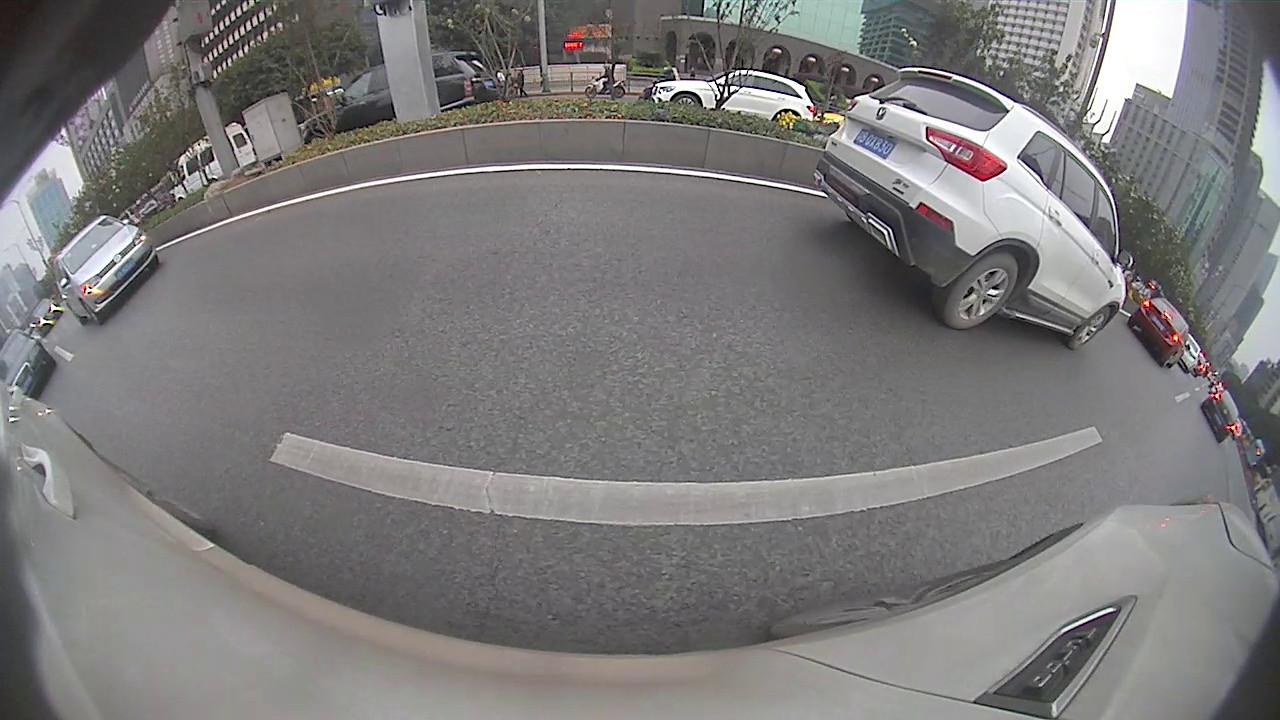bus: (645, 140, 684, 178)
car: (250, 144, 491, 284), (1037, 226, 1252, 376), (799, 150, 910, 217), (901, 171, 994, 231), (736, 155, 794, 187), (790, 161, 826, 189), (702, 159, 732, 179), (614, 162, 630, 175)
front: (1056, 255, 1086, 289), (472, 192, 486, 223), (801, 178, 815, 197)
rear: (371, 213, 410, 263), (1178, 327, 1209, 364), (840, 185, 856, 207), (939, 206, 953, 224)
